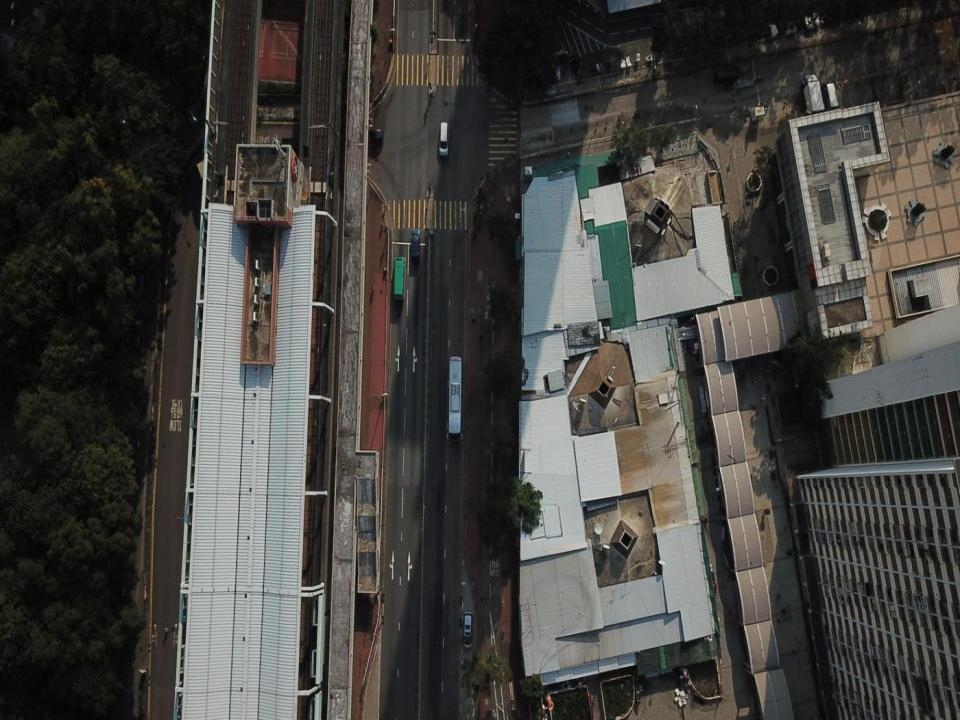bus: (446, 356, 463, 442), (392, 256, 405, 300)
car: (462, 611, 473, 649), (362, 128, 383, 143)
truck: (801, 74, 825, 115)
van: (713, 65, 740, 85), (822, 80, 838, 112), (438, 122, 449, 156), (410, 228, 421, 258)
